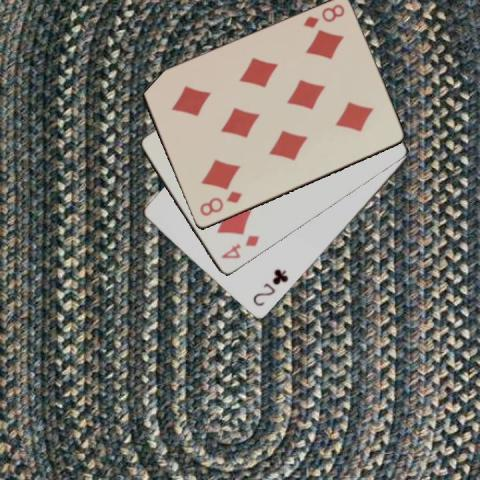2c: (250, 266, 290, 309)
4d: (218, 232, 261, 261)
8d: (197, 189, 243, 218), (300, 1, 346, 30)
